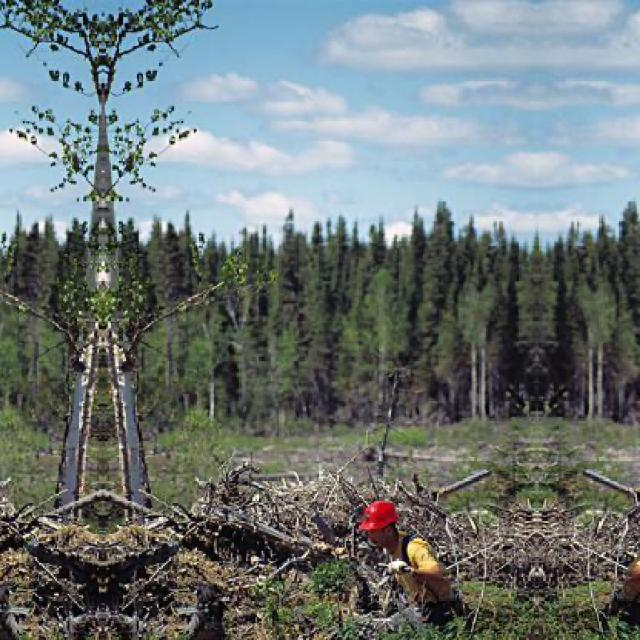helmet: (360, 498, 402, 550)
